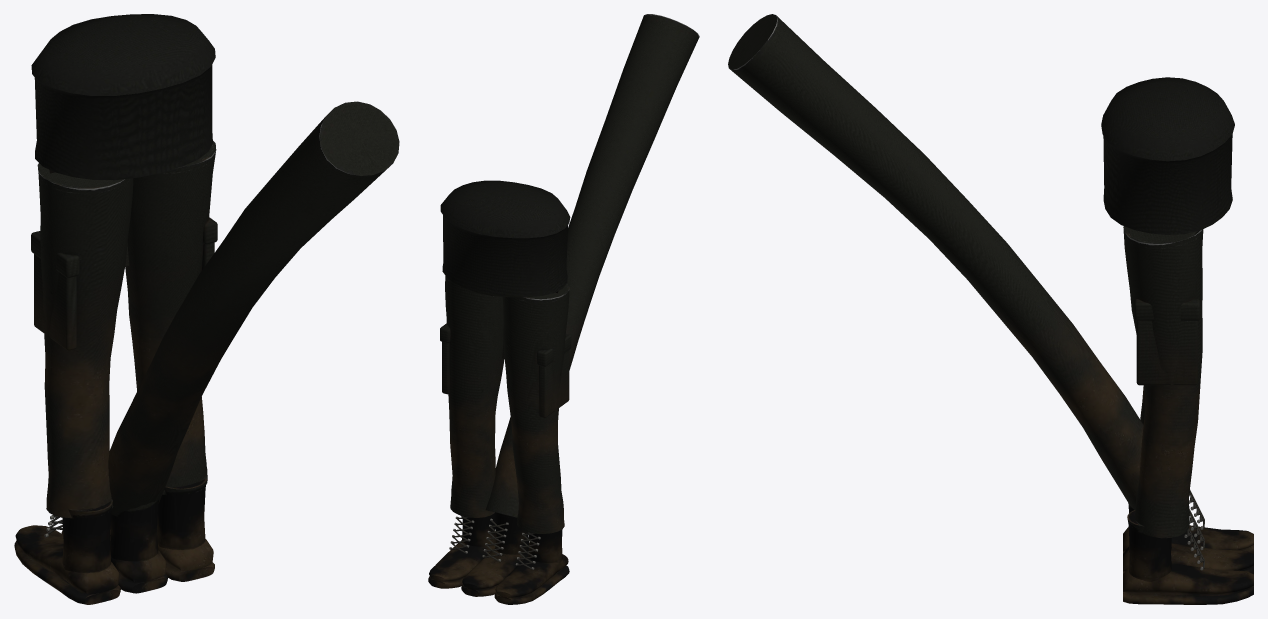
File: legs.glb
3 views of the same model, side by side, from view 1: azimuth 30°, elevation 25°; view 2: azimuth 150°, elevation 25°; view 3: azimuth 270°, elevation 25° (orthographic). The views are drawn at different scales.
Visible parts, largest first — view 1: boot, leg_l, waist, leg_r; view 2: boot, leg_l, leg_r, waist; view 3: boot, leg_r, waist, leg_l.
Part boxes in pixels (bbox=[...]): boot: bbox=[61, 101, 399, 593]; leg_l: bbox=[14, 163, 133, 604]; waist: bbox=[31, 14, 215, 266]; leg_r: bbox=[125, 141, 217, 581]; boot: bbox=[461, 14, 699, 596]; leg_l: bbox=[494, 283, 571, 604]; leg_r: bbox=[428, 276, 504, 588]; waist: bbox=[440, 180, 570, 358]; boot: bbox=[728, 14, 1253, 574]; leg_r: bbox=[1123, 226, 1253, 604]; waist: bbox=[1101, 77, 1234, 234]; leg_l: bbox=[1123, 233, 1253, 553].
Size of what is drawn, in the model's own units: 0.3944 by 1.41 by 1.2.
1 material, 1 textured.
